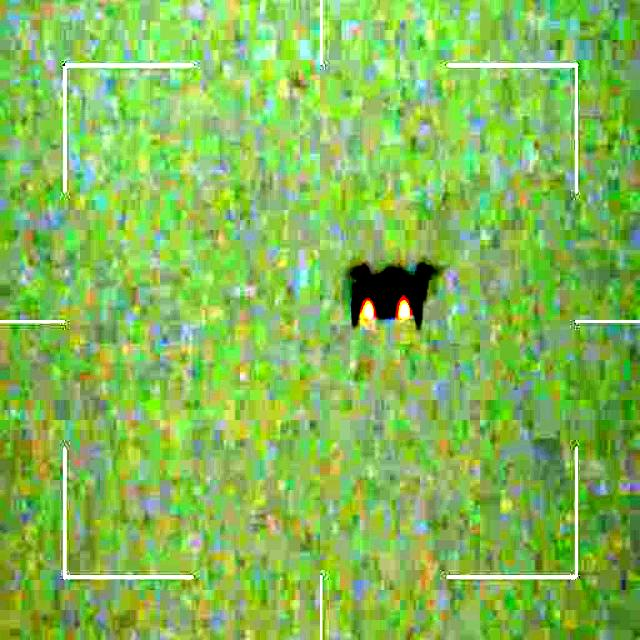bird: (348, 261, 438, 328)
